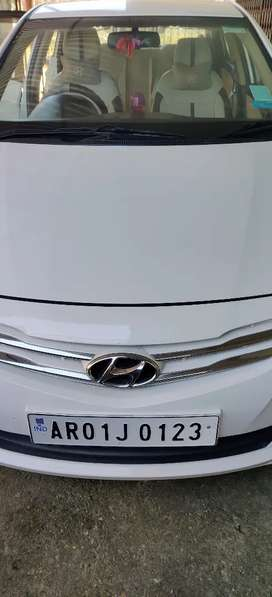AR01J0123: (26, 415, 217, 447)
